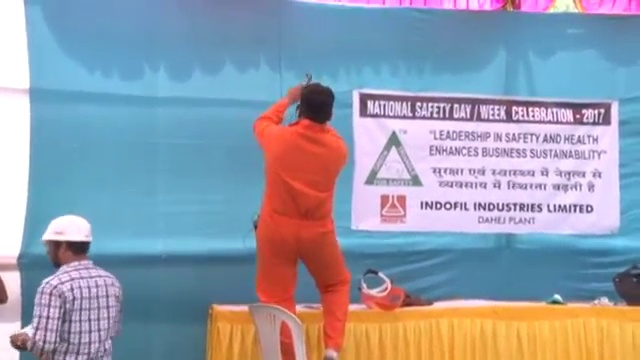helmet: (41, 212, 94, 244)
helmet_off: (298, 82, 332, 123)
helmet_on: (39, 212, 94, 266)
person: (249, 81, 354, 360), (9, 213, 131, 360)
